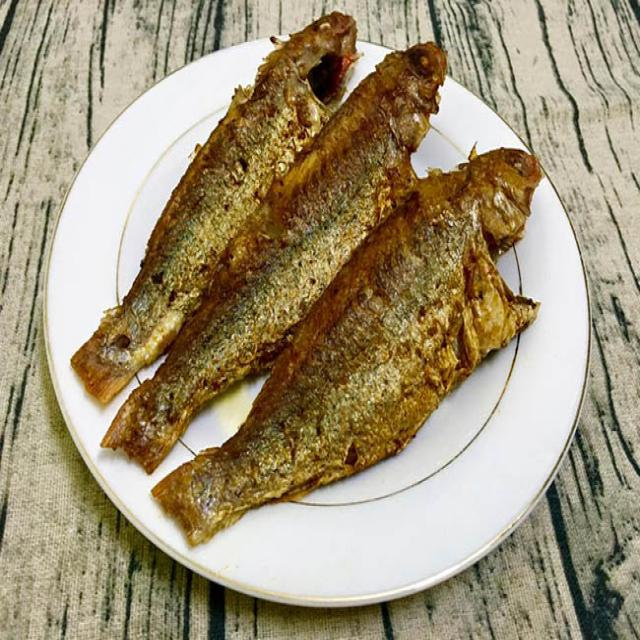ca chien: (154, 149, 539, 544), (104, 43, 445, 472), (72, 12, 357, 403)
